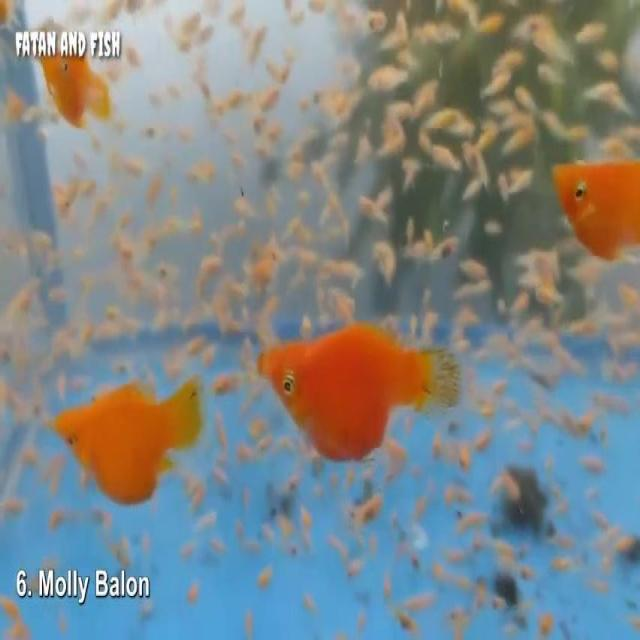PlatyFish: (250, 307, 466, 482), (36, 366, 213, 515)
